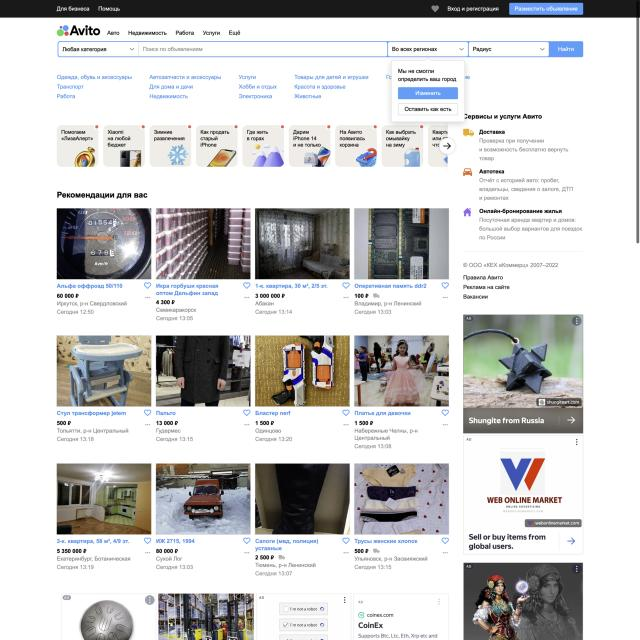logo: (57, 23, 101, 38)
navigation: (55, 70, 372, 103), (106, 28, 242, 38), (54, 4, 122, 14)
